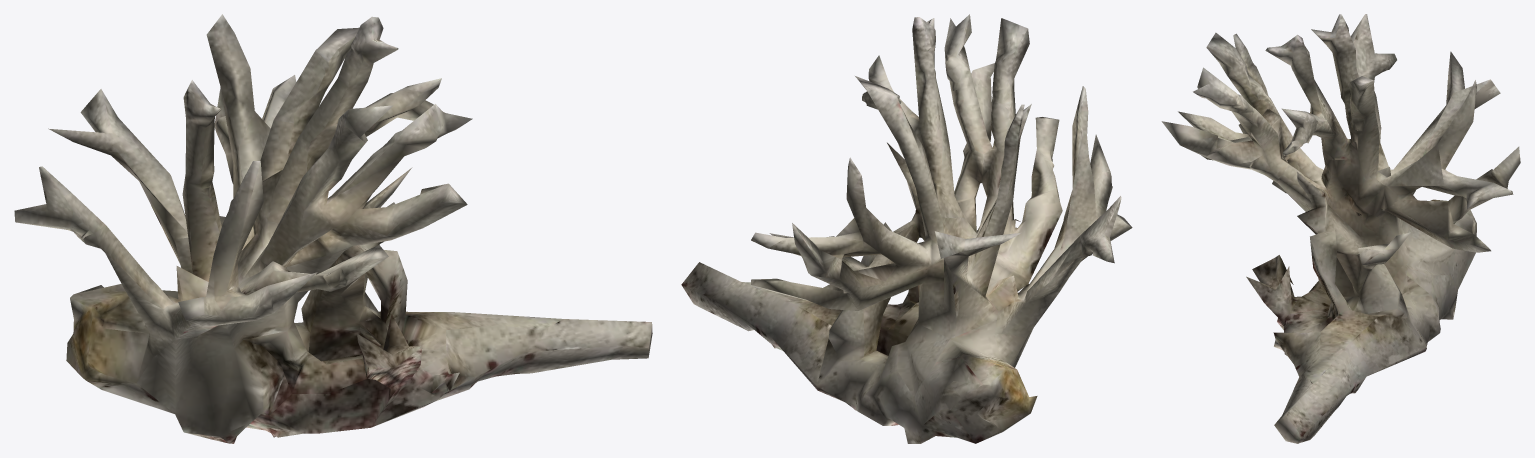
Rendered from staghorn.glb.
3 renders of one model, left to right at view 1: azimuth 30°, elevation 25°; view 2: azimuth 150°, elevation 25°; view 3: azimuth 270°, elevation 25°, orthographic. The views are drawn at different scales.
Bounding box in the file's own units: 0.2816 × 0.1999 × 0.1984.
1 material, 1 textured.
